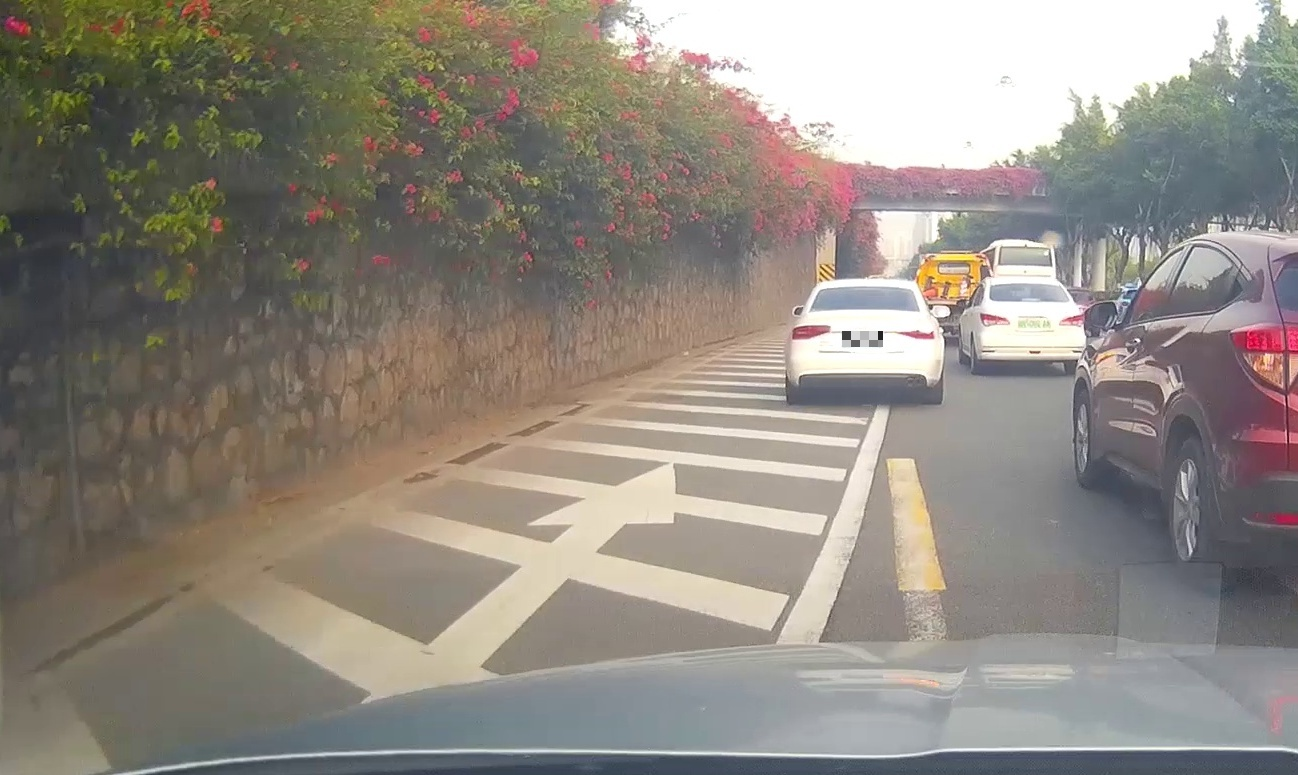L_light: (792, 325, 830, 339), (980, 313, 1010, 327)
R_light: (899, 326, 934, 339), (1059, 315, 1085, 326)
T_light: (857, 287, 879, 291), (1018, 284, 1036, 286)
day-no: (978, 279, 1086, 375)
day-right: (785, 281, 944, 404)
plate_1: (842, 331, 883, 347)
